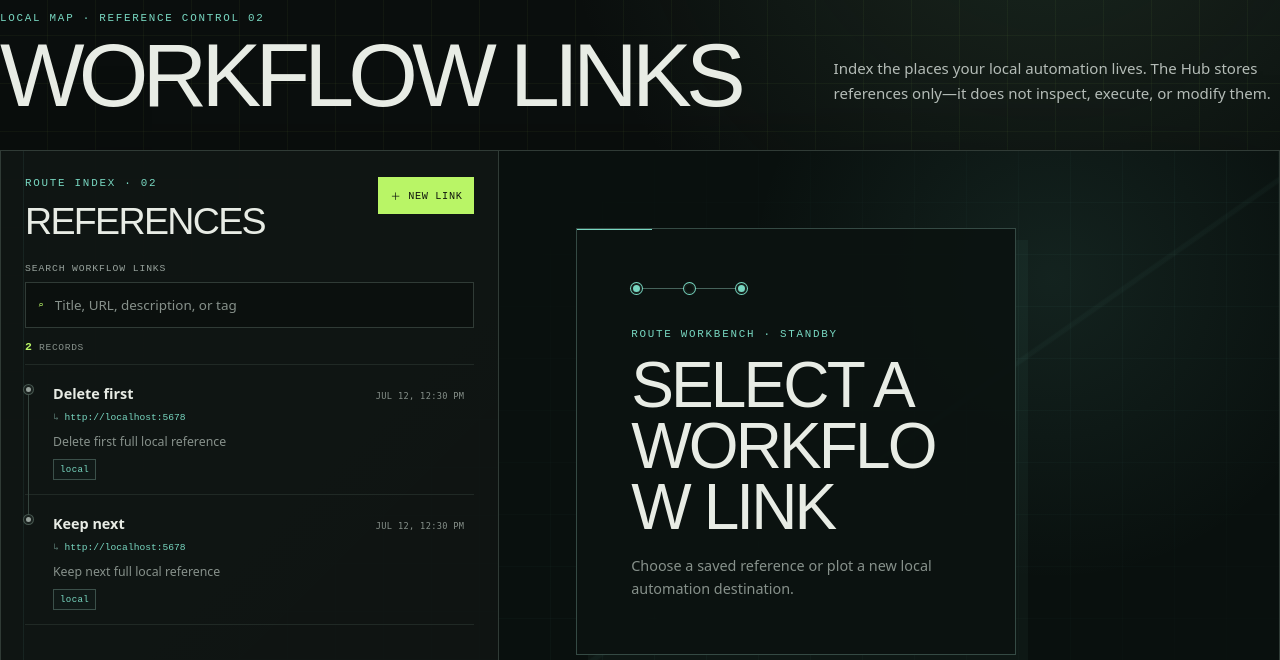
Scenario: Workflow Registry guarded mutations › deletes once, announces the title, and focuses the next adjacent row
Step 1. Click the button "Delete first" → coordinates (93, 394), box left=43, top=370, right=474, bottom=459
(page scrolled)
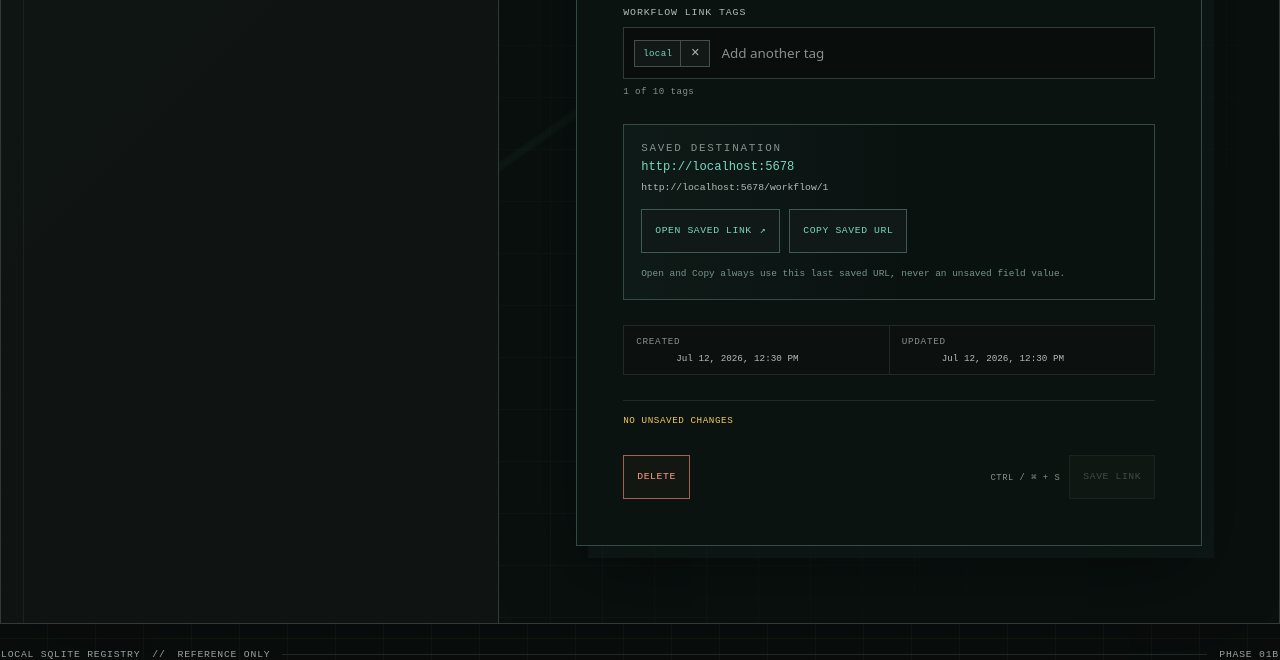
Step 2. Click the button "Delete" → coordinates (656, 477), box left=623, top=455, right=690, bottom=499
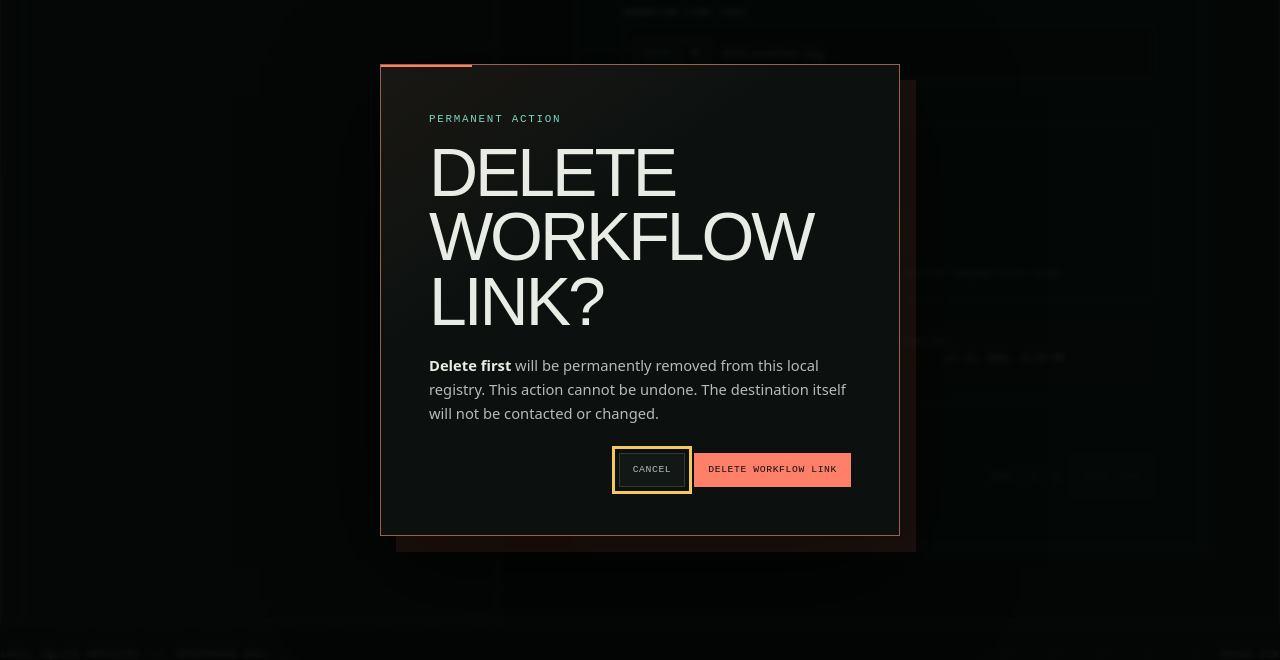
Step 3. Double-click the button "Delete workflow link" → coordinates (773, 470), box left=694, top=454, right=851, bottom=487
(page scrolled)
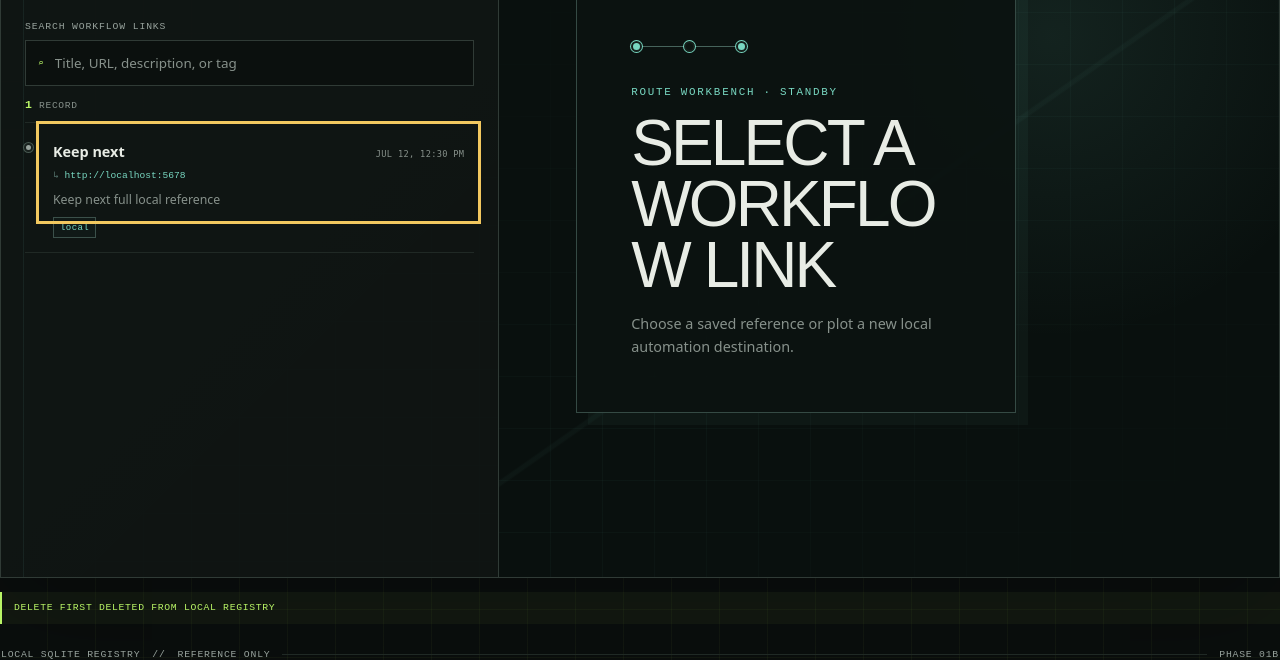
Now the message reads "Delete first deleted from local registry", box left=14, top=602, right=275, bottom=614
